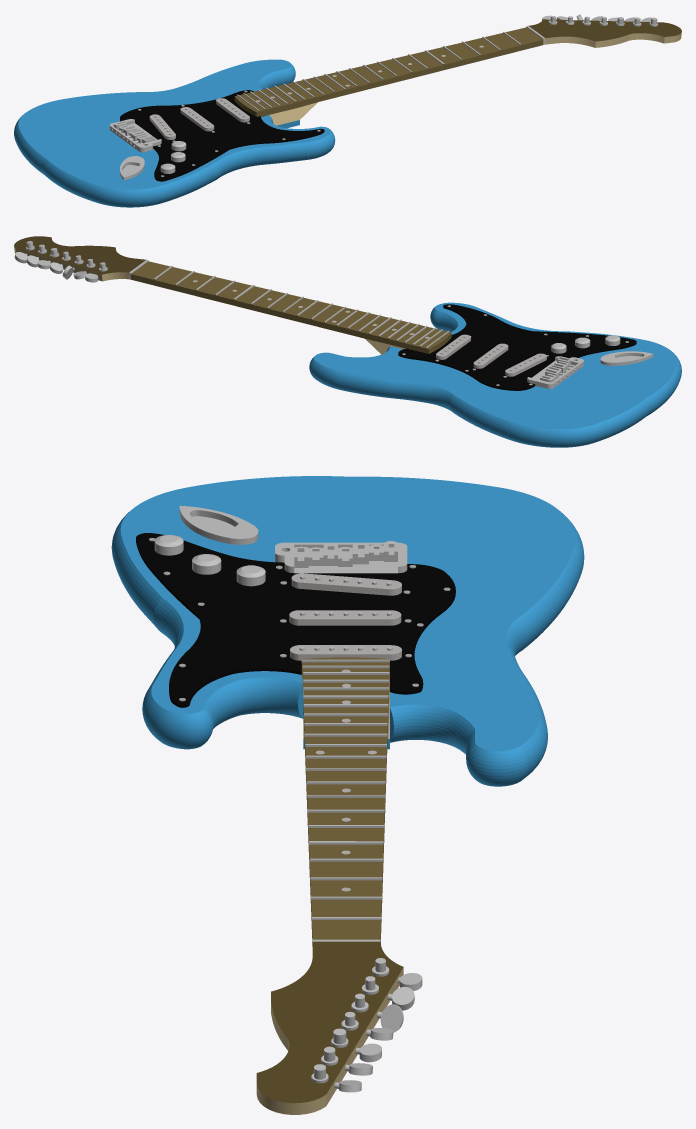
File: guitar.glb
3 views of the same model, one above another, from view 1: azimuth 30°, elevation 25°; view 2: azimuth 150°, elevation 25°; view 3: azimuth 270°, elevation 25° (orthographic). The views are drawn at different scales.
Visible parts, largest first — view 1: Material2.001, Material3.003, Material3.002, Material3.001, Material2.003, Material2, Material3.005, Material3.004; view 2: Material2.001, Material3.003, Material3.002, Material3.001, Material2.003, Material2, Material3.005; view 3: Material2.001, Material3.002, Material3.001, Material3.003, Material2.003, Material2, Material3.005.
Boxes of the visible parts, <box> form: Material2.001: <box>14,59,335,207</box>; Material3.003: <box>234,27,543,116</box>; Material3.002: <box>120,90,324,181</box>; Material3.001: <box>109,14,657,180</box>; Material2.003: <box>528,19,681,41</box>; Material2: <box>143,45,483,139</box>; Material3.005: <box>545,32,681,47</box>; Material3.004: <box>269,102,317,125</box>; Material2.001: <box>309,302,681,447</box>; Material3.003: <box>131,261,451,353</box>; Material3.002: <box>398,304,636,390</box>; Material3.001: <box>14,241,653,388</box>; Material2.003: <box>14,236,146,274</box>; Material2: <box>129,272,562,381</box>; Material3.005: <box>14,238,129,281</box>; Material2.001: <box>111,476,584,786</box>; Material3.002: <box>136,533,455,707</box>; Material3.001: <box>154,505,422,1092</box>; Material3.003: <box>301,657,389,946</box>; Material2.003: <box>256,941,403,1103</box>; Material2: <box>289,546,401,891</box>; Material3.005: <box>256,967,403,1114</box>.
Bounding box in the file's own units: 2.46 × 0.1097 × 0.8071.
